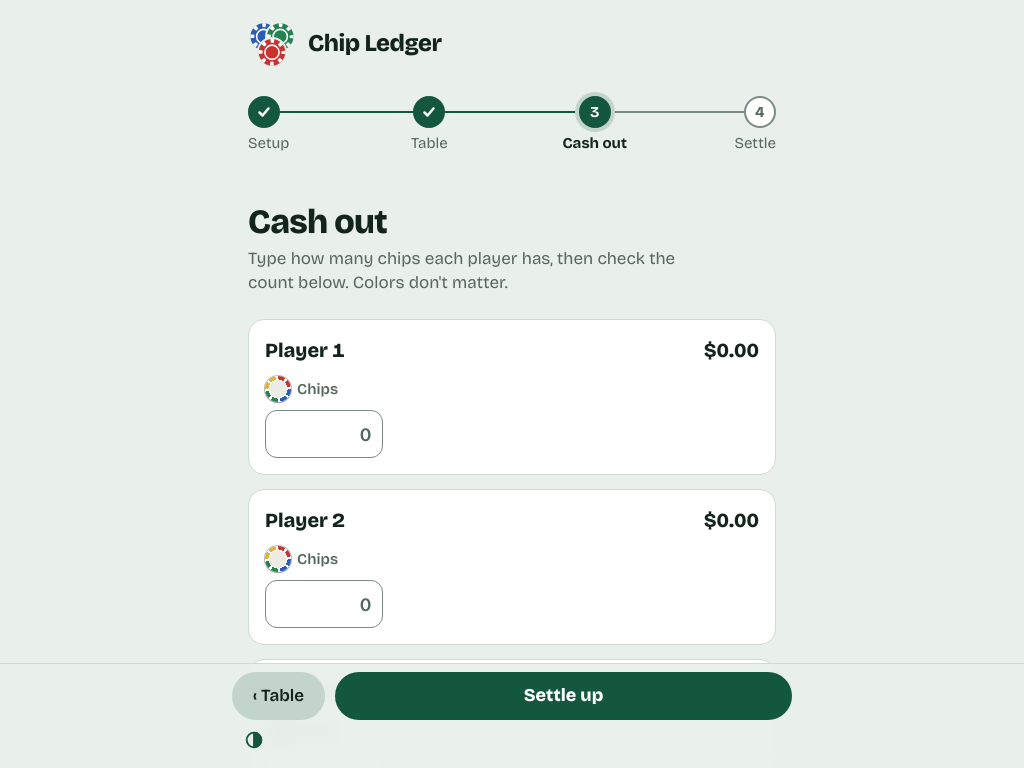
Test: ChipLedgerApp › AC-0001-14: cash out uses one All colors count per player in one-value mode
Check: the heading "Cash out" is shown, box [248,201,387,242]
Type "40" into the field named "Chips for Player 1".
click(324, 434); type("40")  # box [265,410,382,458]
(page scrolled)
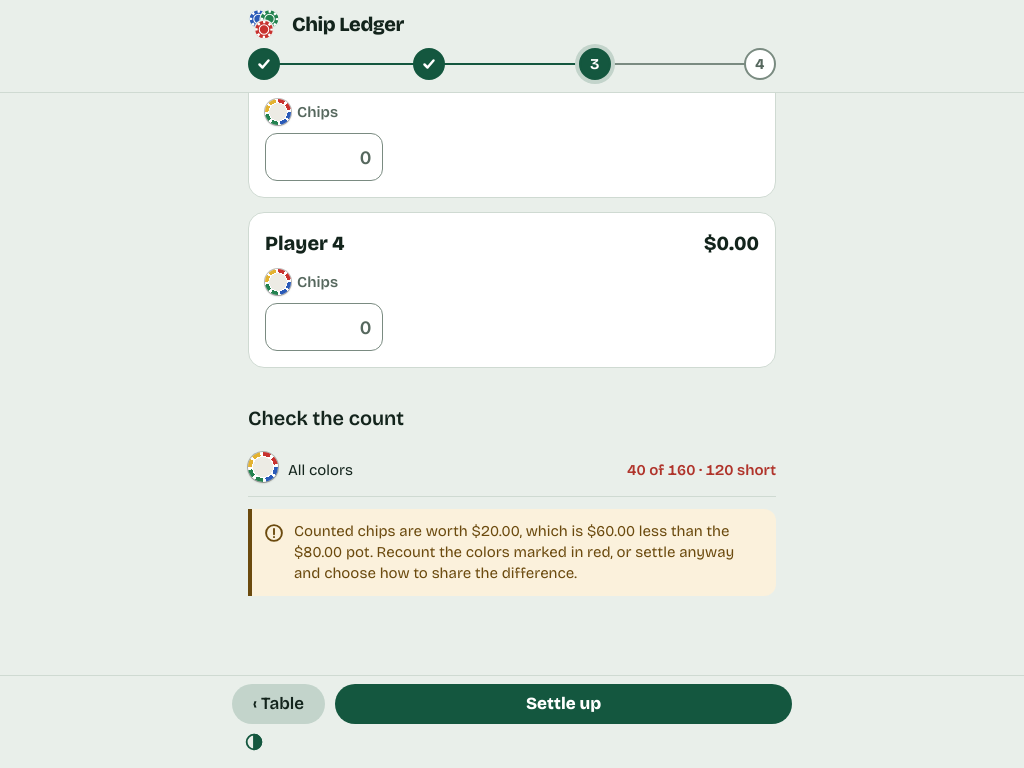
Check: the row "All colors" shows "40 of 160", box [627,461,696,479]
